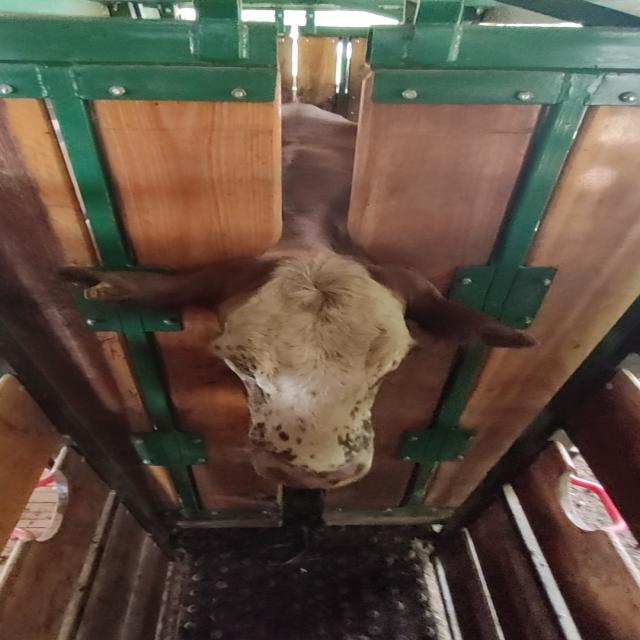cowFace: (209, 253, 410, 484)
